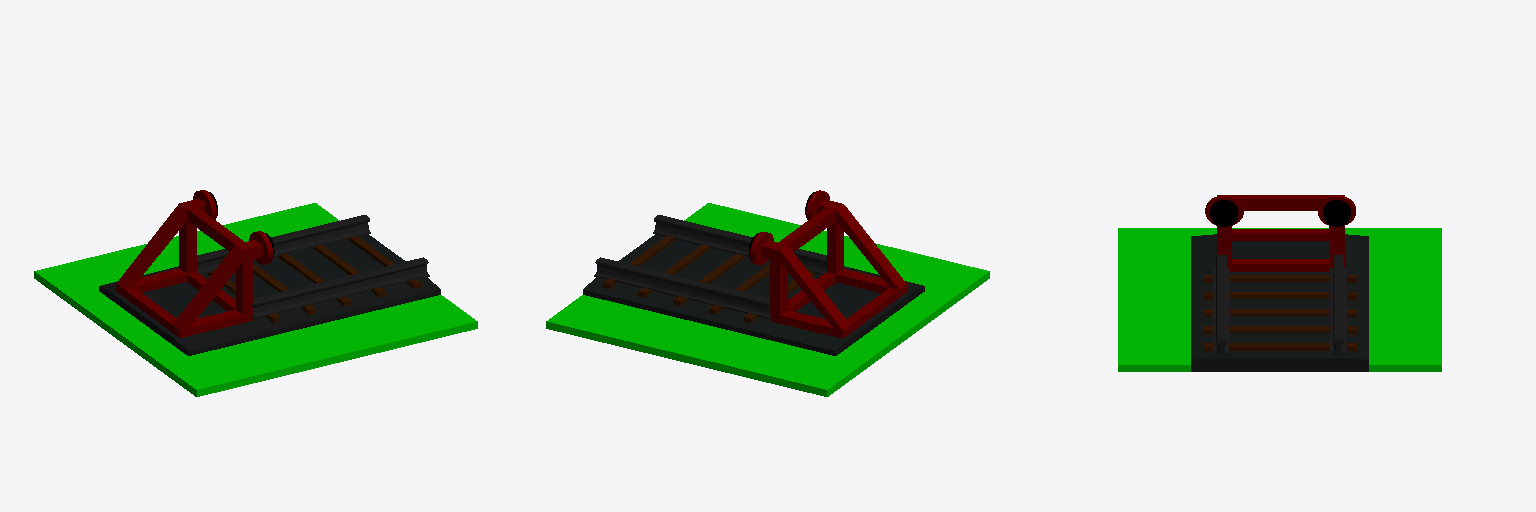
Rendered from fin_voie_chemin_de_fer.obj.
3 renders of one model, left to right at view 1: azimuth 30°, elevation 25°; view 2: azimuth 150°, elevation 25°; view 3: azimuth 270°, elevation 25°, orthographic.
Parts seen in each view (by area): view 1: Sol_Herbe, Basalt_Ballast, tampon_chemin_de_fer_Metal, Rail2.001_Rail, Rail2_Rail; view 2: Sol_Herbe, Basalt_Ballast, tampon_chemin_de_fer_Metal, Rail2_Rail, Rail2.001_Rail; view 3: Sol_Herbe, Basalt_Ballast, tampon_chemin_de_fer_Metal, Rail2_Rail, Rail2.001_Rail, Bois2.005_Bois, Bois2.004_Bois, Bois2.002_Bois, Bois2.003_Bois, Bois2.001_Bois, TamponGauche_Tampon.001, TamponDroit_Tampon.
Part boxes in pixels (x1,y1,x2,y2): Sol_Herbe: (34, 203, 477, 396); Basalt_Ballast: (99, 234, 440, 355); tampon_chemin_de_fer_Metal: (116, 190, 272, 337); Rail2.001_Rail: (252, 257, 429, 318); Rail2_Rail: (197, 215, 370, 274); Sol_Herbe: (546, 203, 989, 396); Basalt_Ballast: (583, 234, 924, 355); tampon_chemin_de_fer_Metal: (750, 190, 906, 338); Rail2_Rail: (594, 257, 770, 318); Rail2.001_Rail: (653, 215, 826, 274); Sol_Herbe: (1118, 228, 1441, 371); Basalt_Ballast: (1191, 234, 1368, 371); tampon_chemin_de_fer_Metal: (1205, 195, 1355, 271); Rail2_Rail: (1330, 255, 1346, 354); Rail2.001_Rail: (1213, 255, 1229, 354); Bois2.005_Bois: (1203, 343, 1356, 351); Bois2.004_Bois: (1203, 326, 1356, 334); Bois2.002_Bois: (1203, 292, 1356, 299); Bois2.003_Bois: (1203, 309, 1356, 316); Bois2.001_Bois: (1203, 275, 1356, 282); TamponGauche_Tampon.001: (1210, 200, 1238, 226); TamponDroit_Tampon: (1323, 200, 1350, 226).
Size of the model in its own units: 4 by 1.32 by 4.